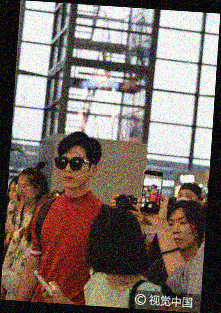without_mask: (58, 154, 90, 191), (166, 215, 198, 251), (16, 180, 35, 203), (7, 186, 19, 205)
